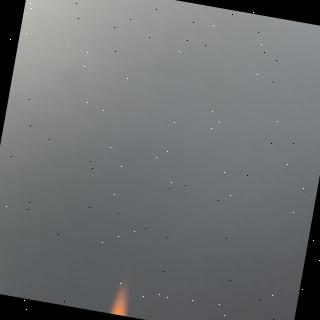fire: (104, 281, 140, 318)
